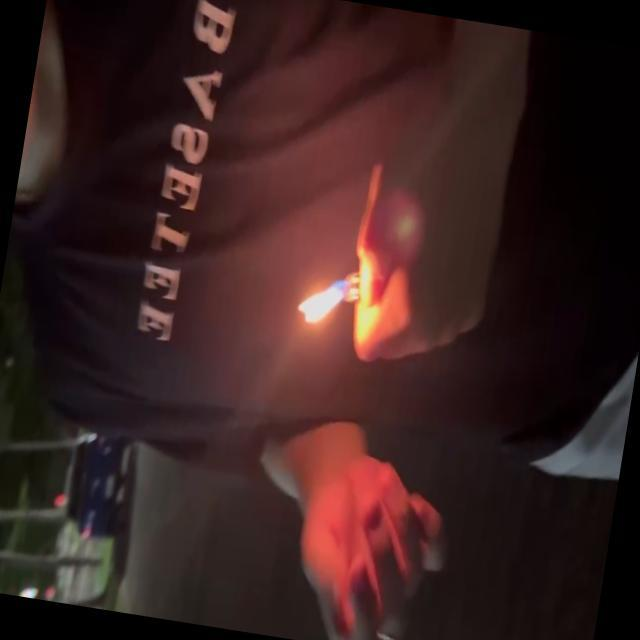Fire: (291, 272, 353, 332)
